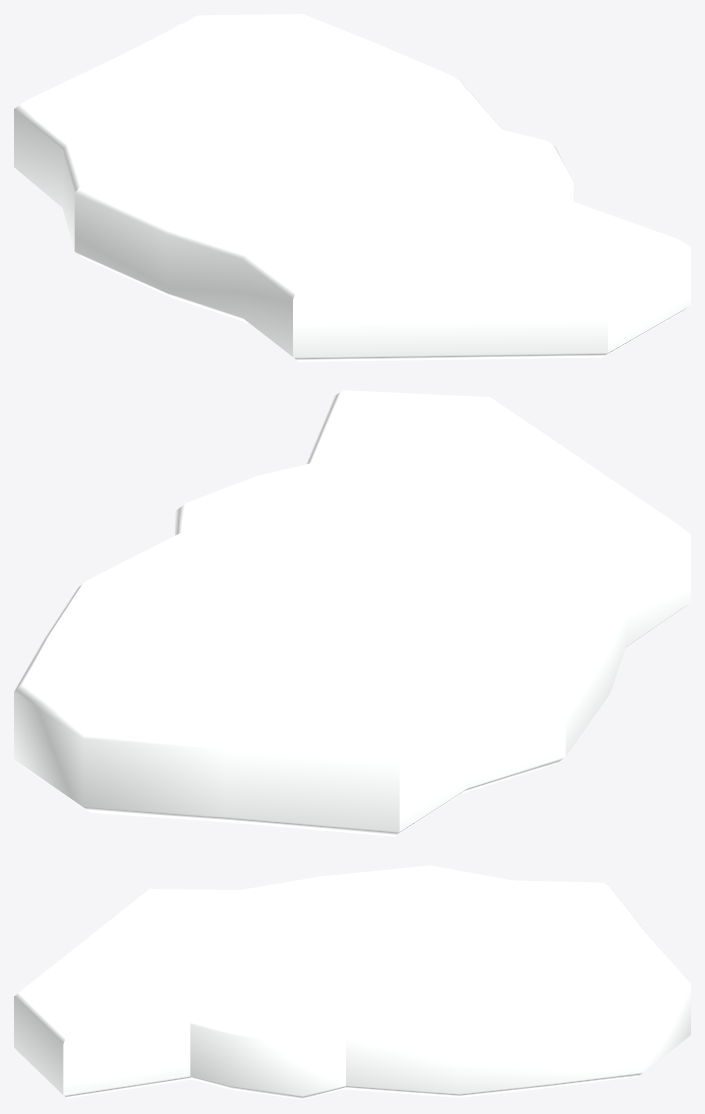
Rendered from ice_floe_medium_006.glb.
3 views of the same model, one above another, from view 1: azimuth 30°, elevation 25°; view 2: azimuth 150°, elevation 25°; view 3: azimuth 270°, elevation 25° (orthographic). The views are drawn at different scales.
Visible parts, largest first — view 1: ice_floe_medium_006; view 2: ice_floe_medium_006; view 3: ice_floe_medium_006.
Part boxes in pixels (<box>): ice_floe_medium_006: <box>14,14,690,361</box>; ice_floe_medium_006: <box>14,390,690,836</box>; ice_floe_medium_006: <box>14,865,690,1099</box>.
Size of the model in its own units: 5.04 by 0.8944 by 8.22.
Materials: 1 (1 with a texture image).
